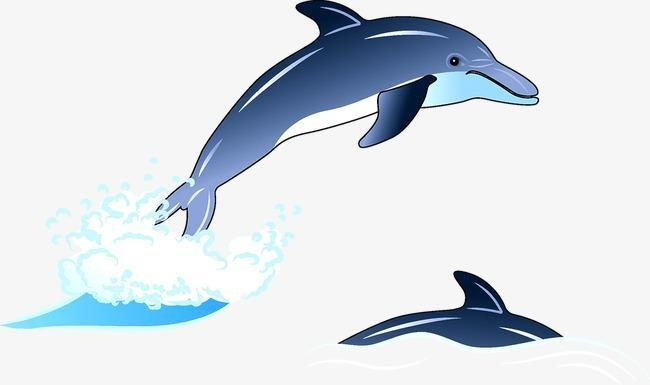fish: (162, 1, 545, 219)
